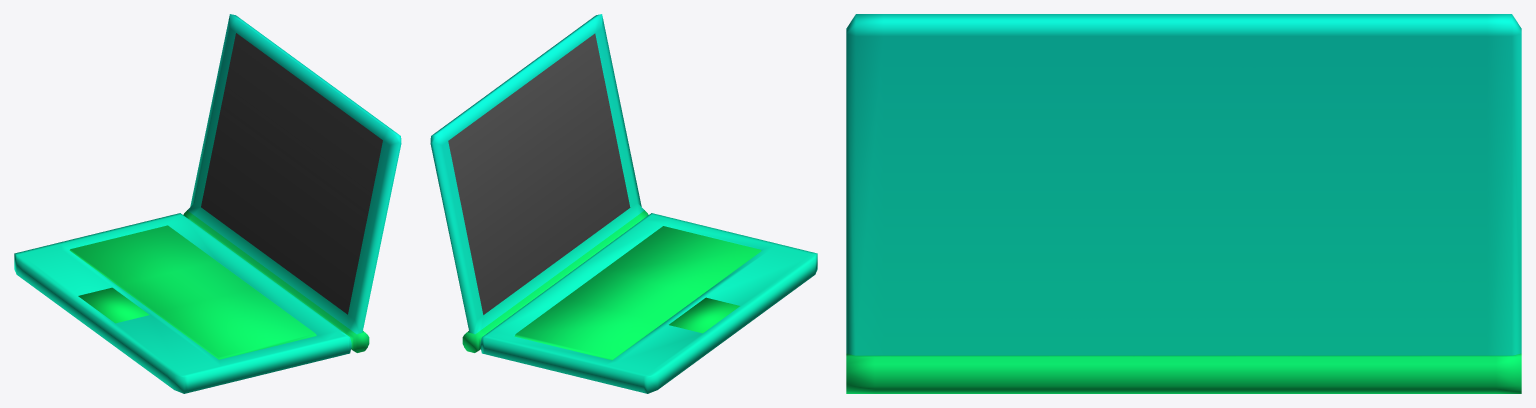
File: SM_Portatil.fbx
The picture shows the model from 3 angles, left to right: view 1: azimuth 30°, elevation 25°; view 2: azimuth 150°, elevation 25°; view 3: azimuth 270°, elevation 25°; orthographic projection. The views are drawn at different scales.
Visible parts, largest first — view 1: Portatil; view 2: Portatil; view 3: Portatil.
Part boxes in pixels (x1,y1,x2,y2): Portatil: [14, 14, 401, 393]; Portatil: [430, 14, 817, 393]; Portatil: [846, 14, 1521, 393].
Size of the model in its own units: 78.49 by 69.44 by 103.
